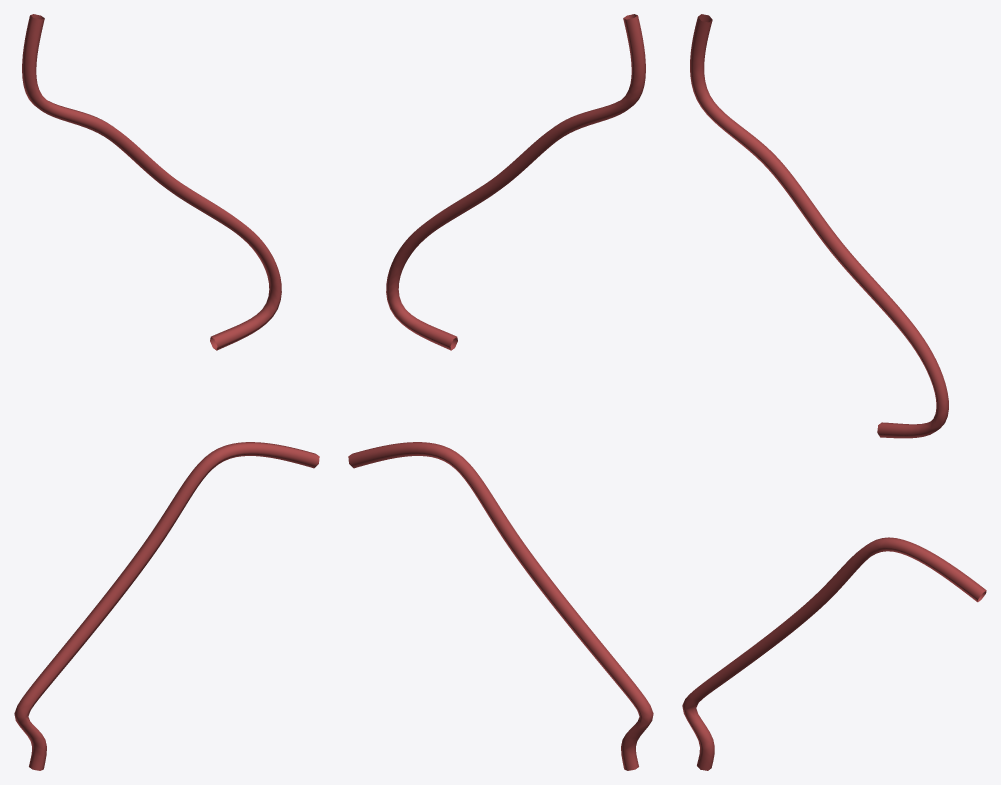
The model's file is snipFive.fbx.
3 views of the same model, side by side, from view 1: azimuth 30°, elevation 25°; view 2: azimuth 150°, elevation 25°; view 3: azimuth 330°, elevation 25° (orthographic).
Parts seen in each view (by area): view 1: extrudedSurface25, extrudedSurface20; view 2: extrudedSurface25, extrudedSurface20; view 3: extrudedSurface20, extrudedSurface25.
Boxes of the visible parts, x1,y1,x2,y2 form: extrudedSurface25: (14, 442, 319, 770); extrudedSurface20: (22, 14, 281, 350); extrudedSurface25: (348, 442, 653, 770); extrudedSurface20: (386, 14, 645, 350); extrudedSurface20: (690, 14, 948, 438); extrudedSurface25: (682, 537, 986, 770).
Bounding box in the file's own units: 24.75 × 59.13 × 1.09.
